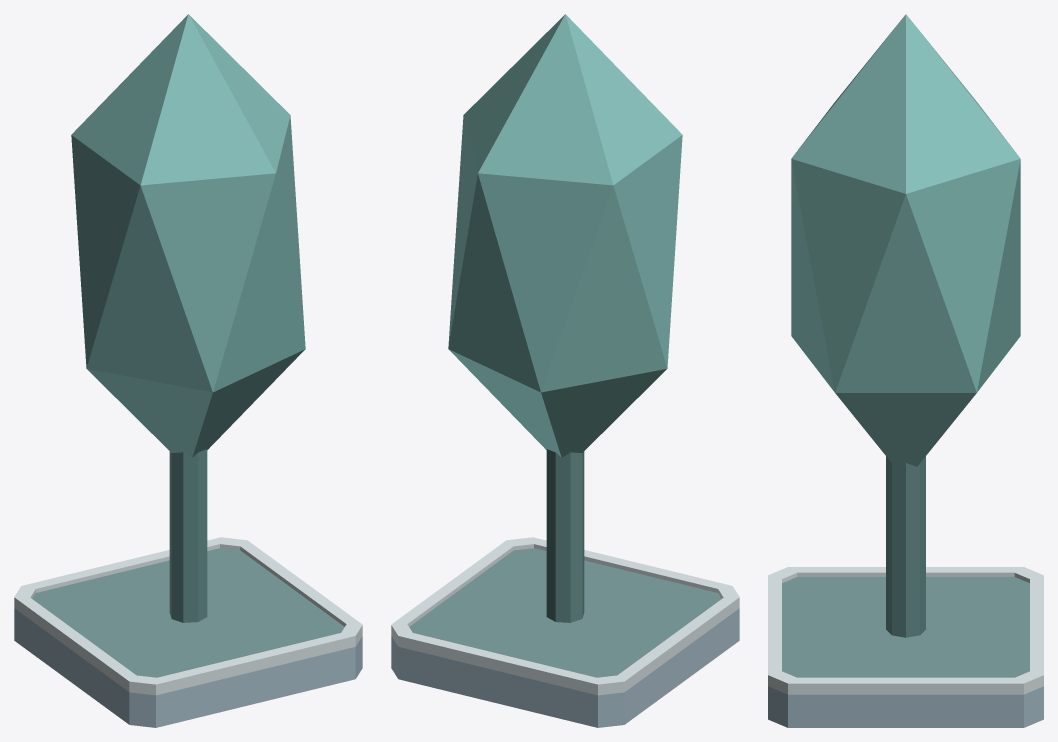
Rendered from campus_tree_tall_v01.glb.
3 renders of one model, left to right at view 1: azimuth 30°, elevation 25°; view 2: azimuth 150°, elevation 25°; view 3: azimuth 270°, elevation 25°, orthographic. The views are drawn at different scales.
Visible parts, largest first — view 1: campus_tree_tall; view 2: campus_tree_tall; view 3: campus_tree_tall.
Part boxes in pixels (left/top/right/bottom): campus_tree_tall: left=14, top=14, right=362, bottom=727; campus_tree_tall: left=391, top=14, right=739, bottom=727; campus_tree_tall: left=768, top=14, right=1043, bottom=727.
Size of the model in its own units: 1.8 by 4.72 by 1.8.
1 material, 1 textured.
